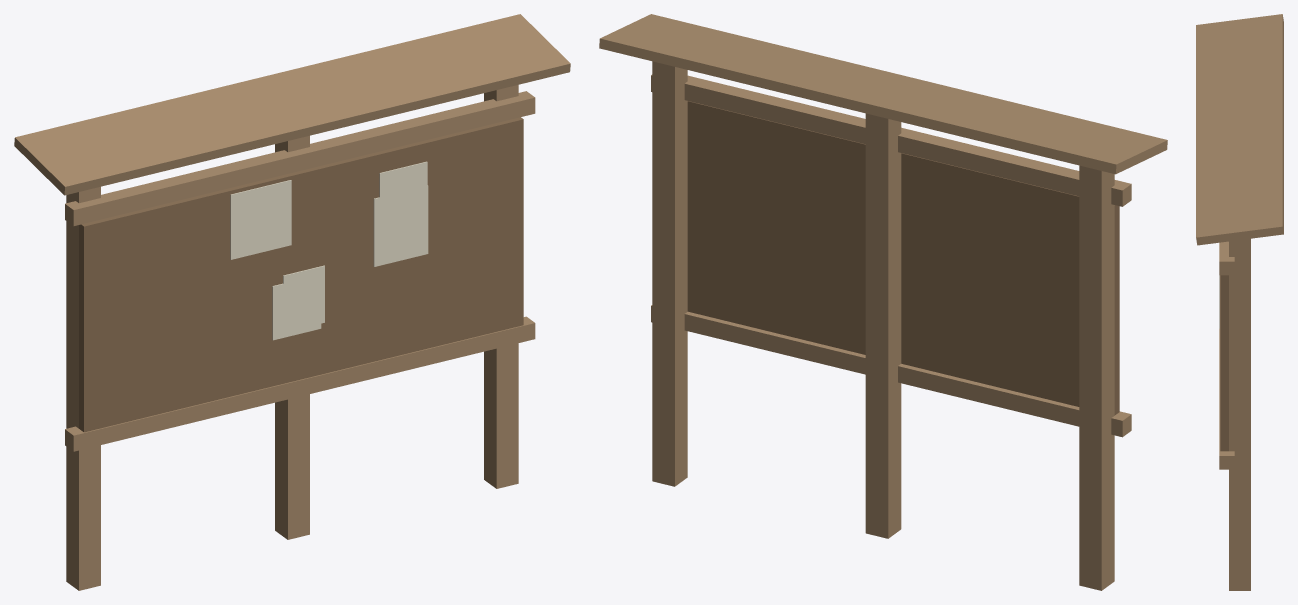
Rendered from prop-notice-board.fbx.
The picture shows the model from 3 angles, left to right: view 1: azimuth 30°, elevation 25°; view 2: azimuth 150°, elevation 25°; view 3: azimuth 270°, elevation 25°; orthographic projection. The views are drawn at different scales.
Parts seen in each view (by area): view 1: prop-notice-board; view 2: prop-notice-board; view 3: prop-notice-board.
Part boxes in pixels (x1,y1,x2,y2): prop-notice-board: (14, 14, 570, 590); prop-notice-board: (599, 14, 1167, 590); prop-notice-board: (1196, 14, 1283, 590).
Bounding box in the file's own units: 2.3 × 1.91 × 0.4017.
